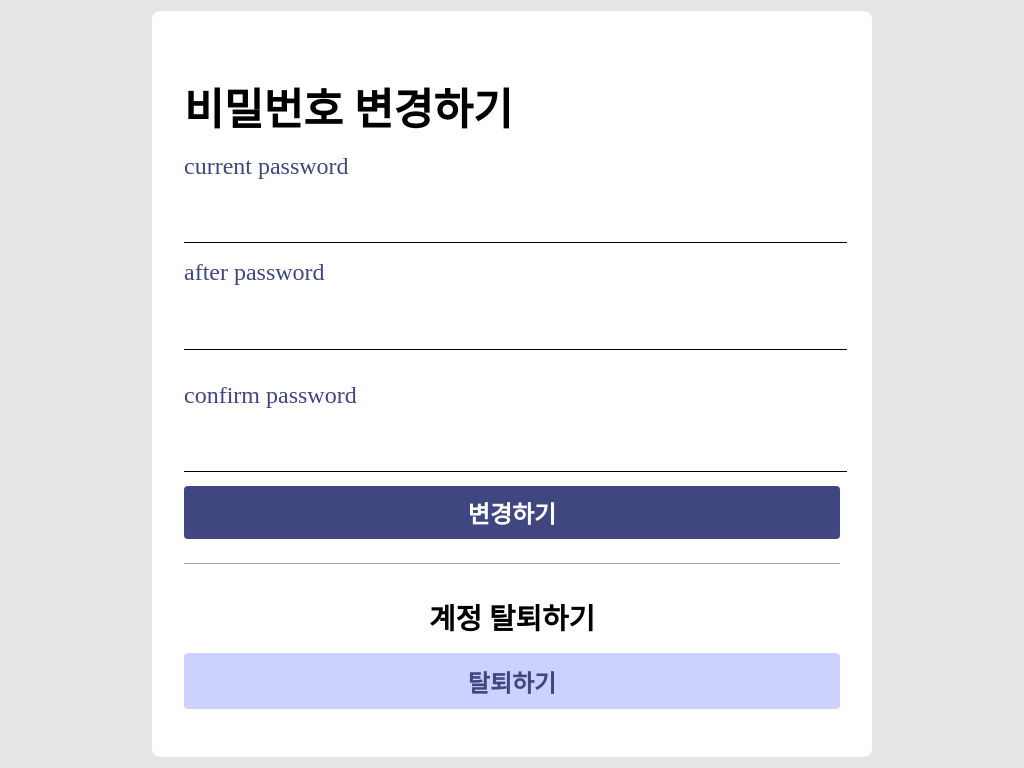
Component/Organism/AccountInfoModal › 확인 비밀번호가 이후 비밀번호와 다를 때
Type "1q2w3e4r" into the password field named "currentpw" at (516, 225), box [184,207,847,243]
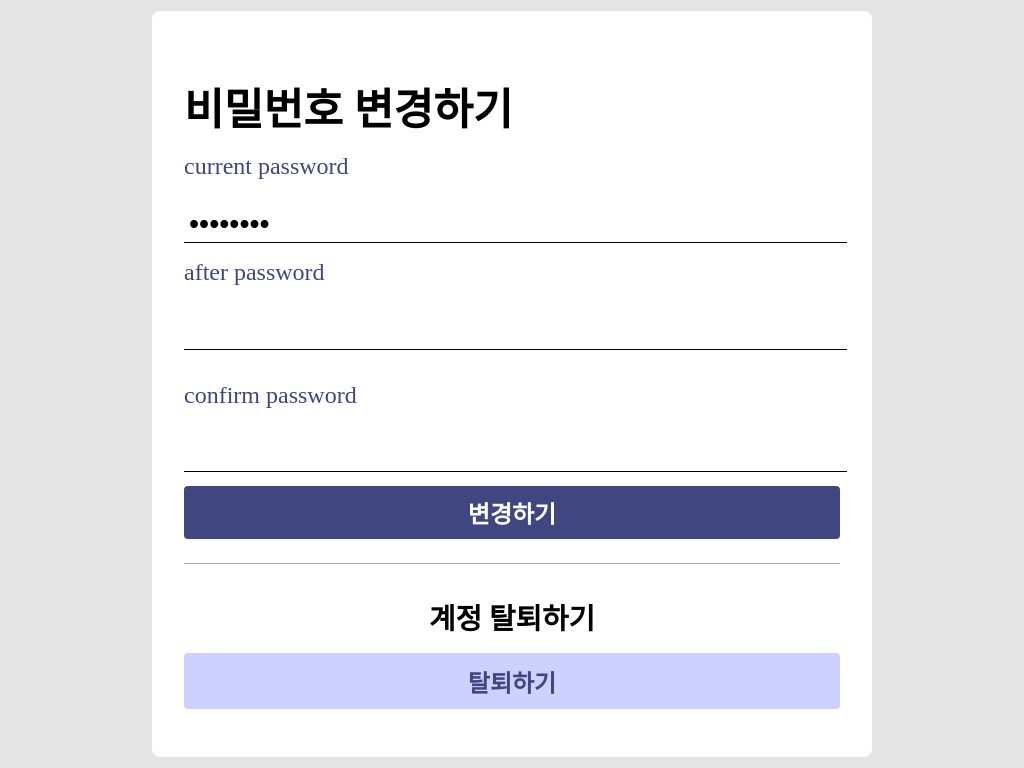
Type "1q2w3e4r" into the password field named "afterpw" at (516, 332), box [184,314,847,350]
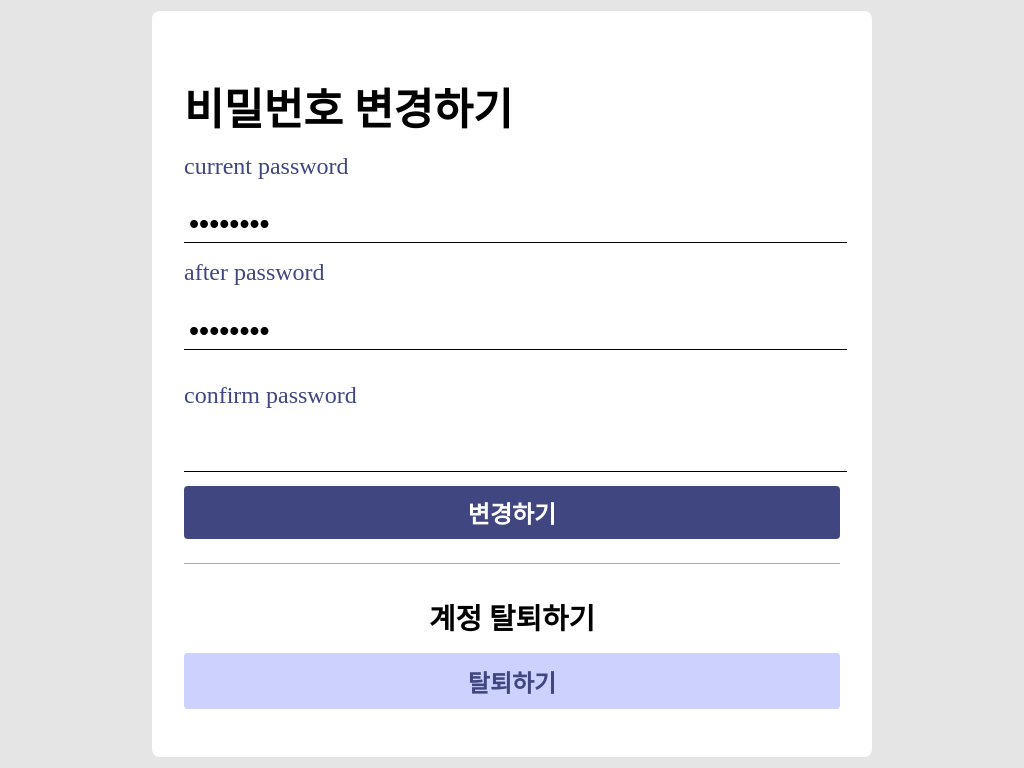
Click the button "변경하기" at (512, 513), box [184,486,840,539]
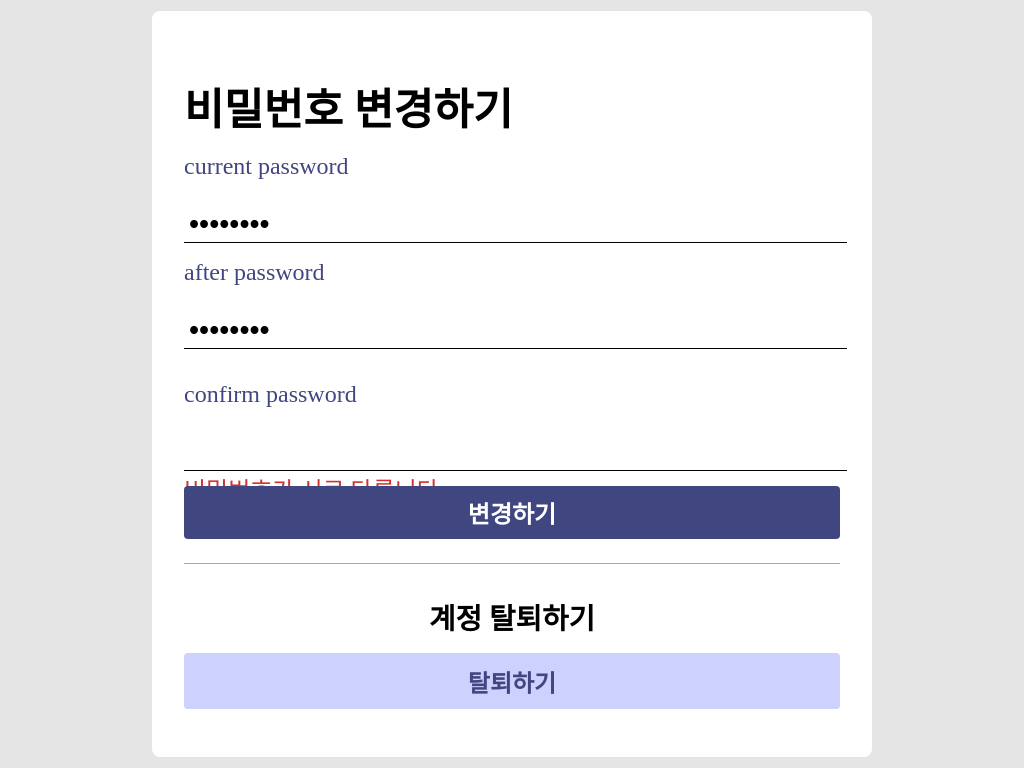
Expected: the text "비밀번호가 서로 다릅니다" is shown, [184,478,439,504]
